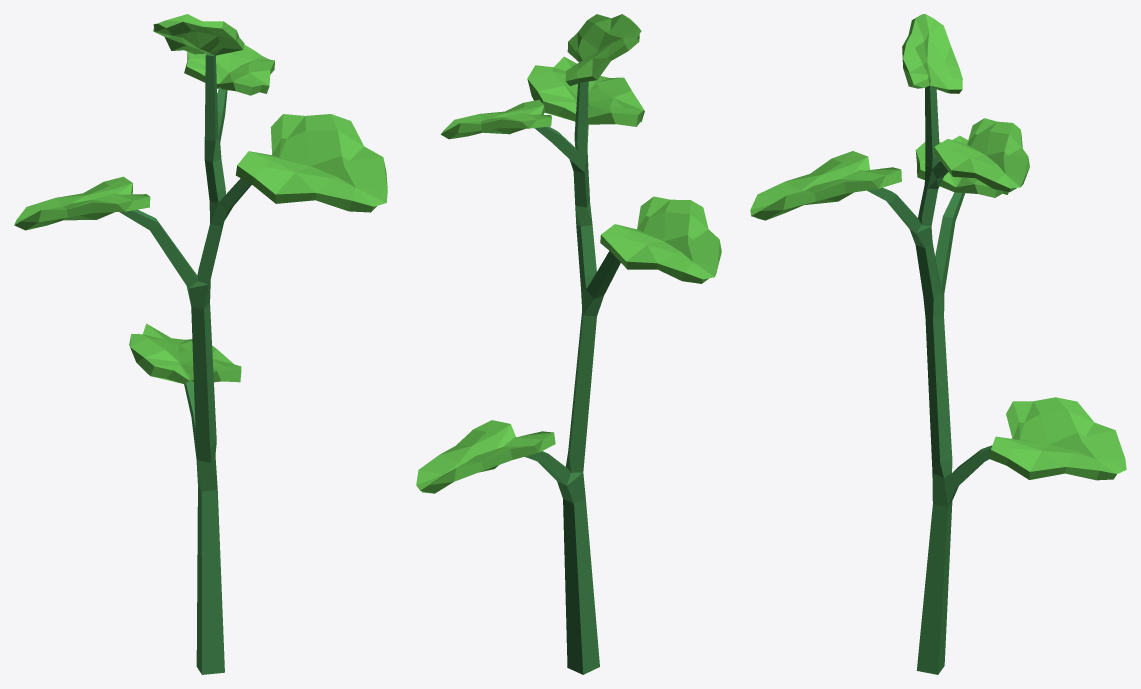
File: Eggplant_S_Groowing.fbx
The picture shows the model from 3 angles, left to right: view 1: azimuth 30°, elevation 25°; view 2: azimuth 150°, elevation 25°; view 3: azimuth 270°, elevation 25°; orthographic projection. The views are drawn at different scales.
Parts seen in each view (by area): view 1: Eggplant_S_Groowing; view 2: Eggplant_S_Groowing; view 3: Eggplant_S_Groowing.
Boxes of the visible parts, x1=… form: Eggplant_S_Groowing: x1=14, y1=14, x2=387, y2=674; Eggplant_S_Groowing: x1=416, y1=14, x2=721, y2=674; Eggplant_S_Groowing: x1=750, y1=14, x2=1126, y2=674.
Size of the model in its own units: 18.66 by 44.86 by 24.06.
